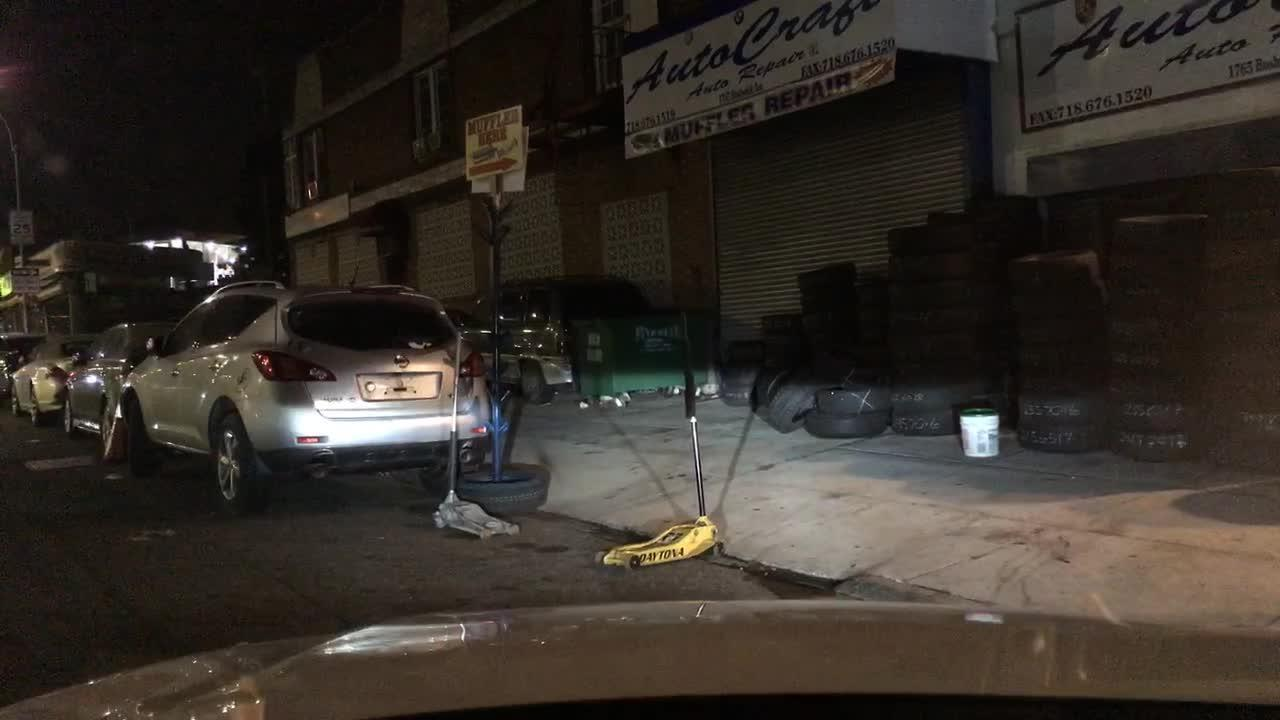Nissan: (392, 350, 414, 375)
